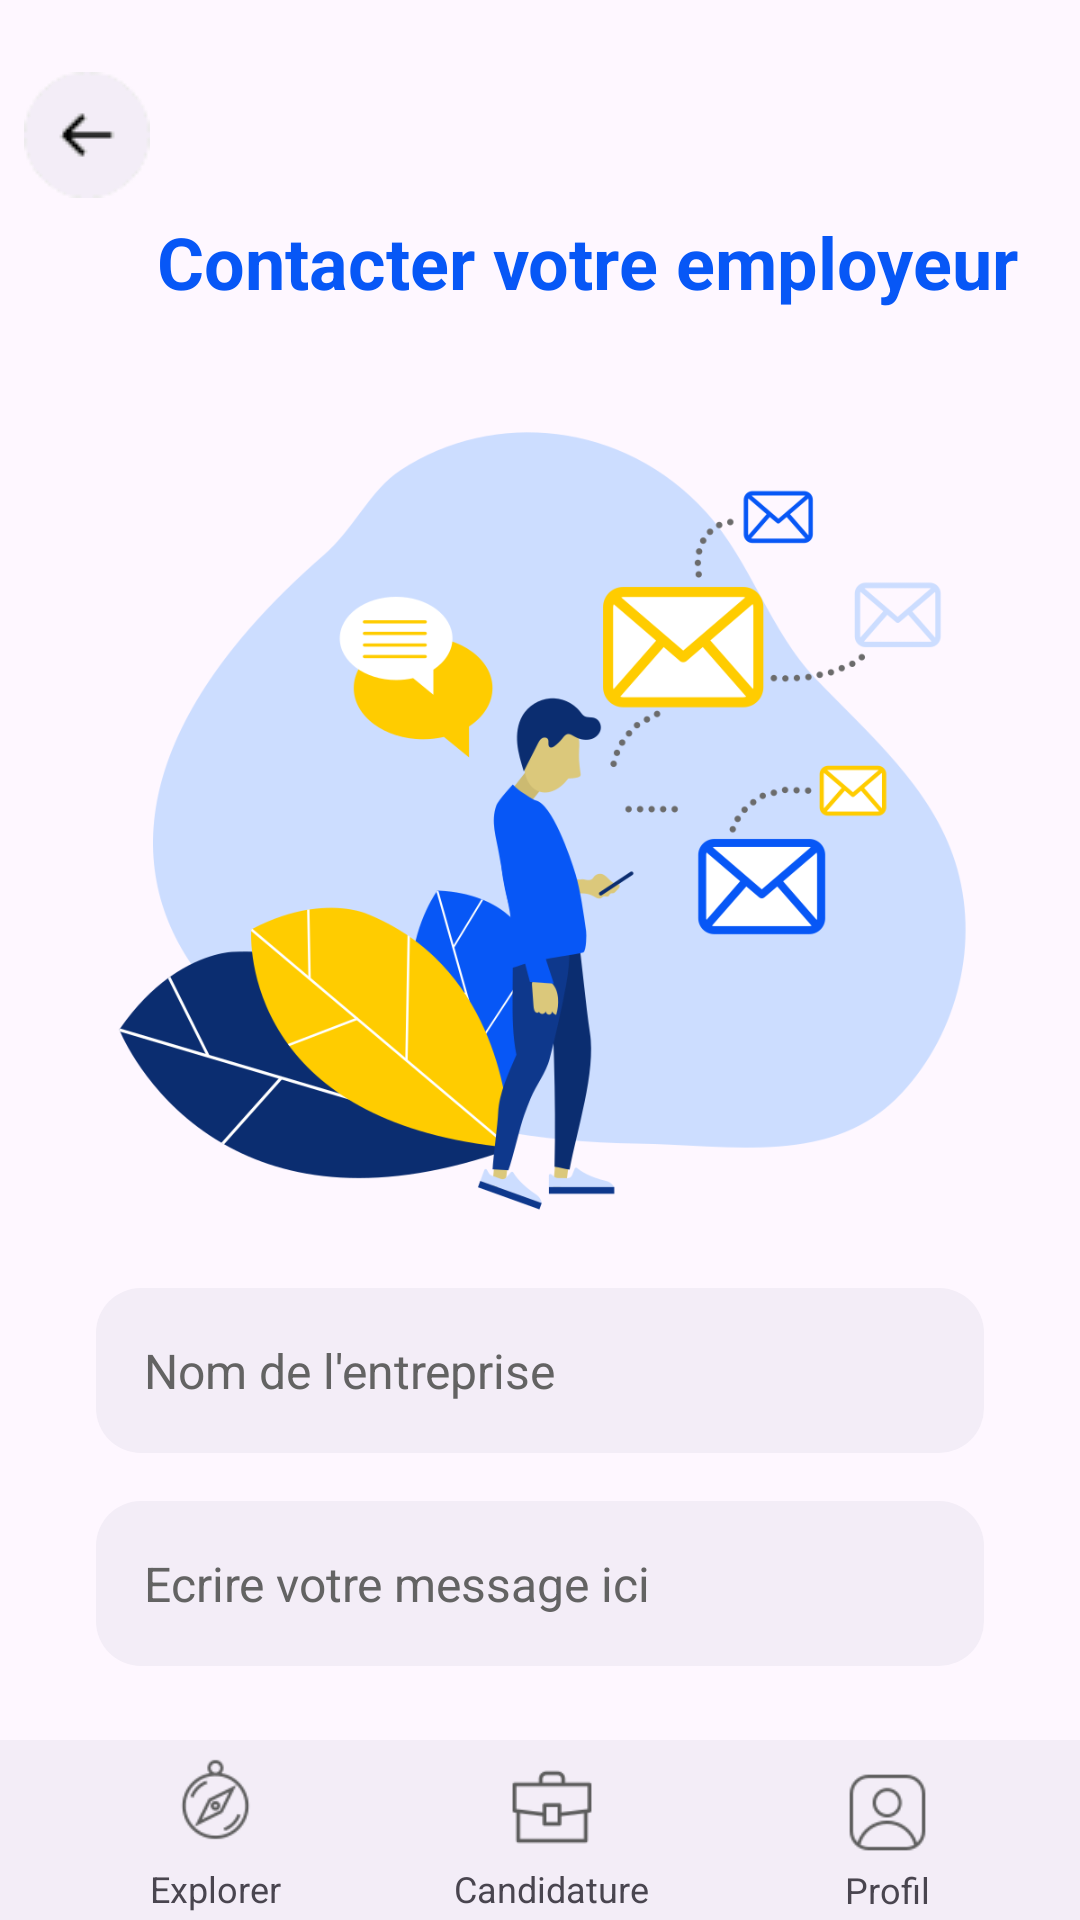

Icons on this 1080 x 1920 Android screen, each with its box as {"left": x1, "top": y1, "right": x2, "bottom": y2}:
back: {"left": 24, "top": 72, "right": 150, "bottom": 198}
compass: {"left": 182, "top": 1760, "right": 249, "bottom": 1839}
